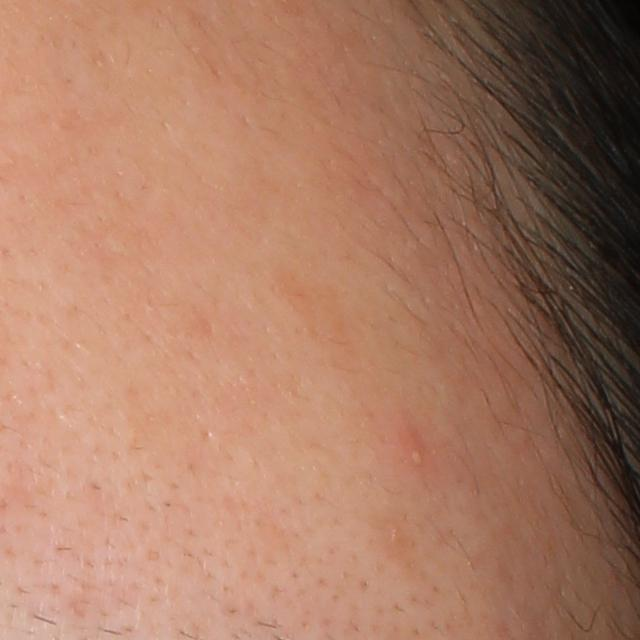pustule: (407, 440, 433, 467)
